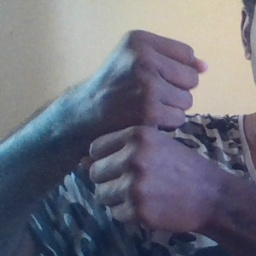G: (85, 26, 210, 225)
